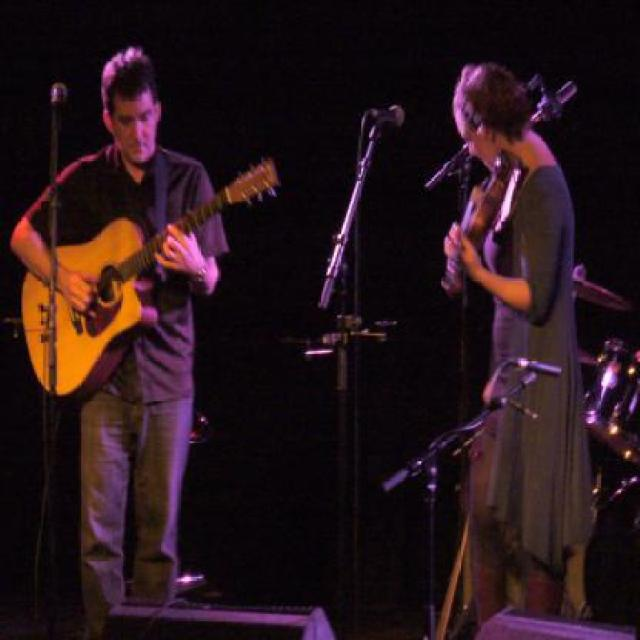Person: (8, 42, 228, 640), (432, 42, 586, 535)
